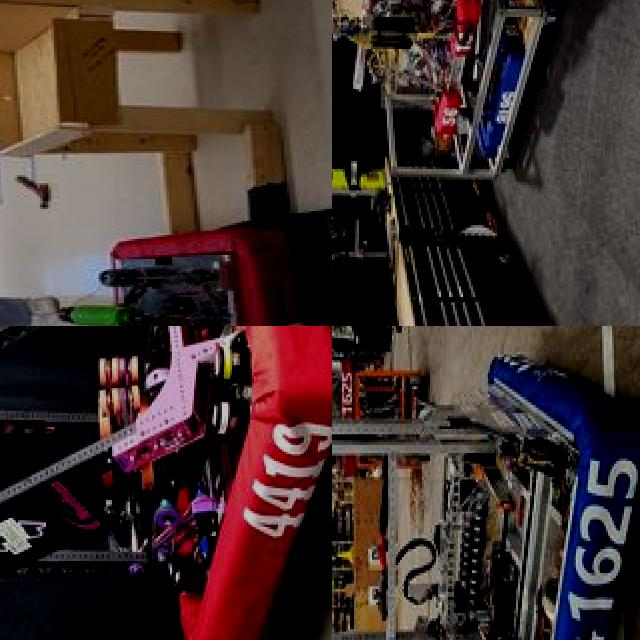FRC-Robots: (0, 326, 332, 640), (332, 326, 640, 640), (18, 219, 315, 326), (332, 0, 470, 132)
